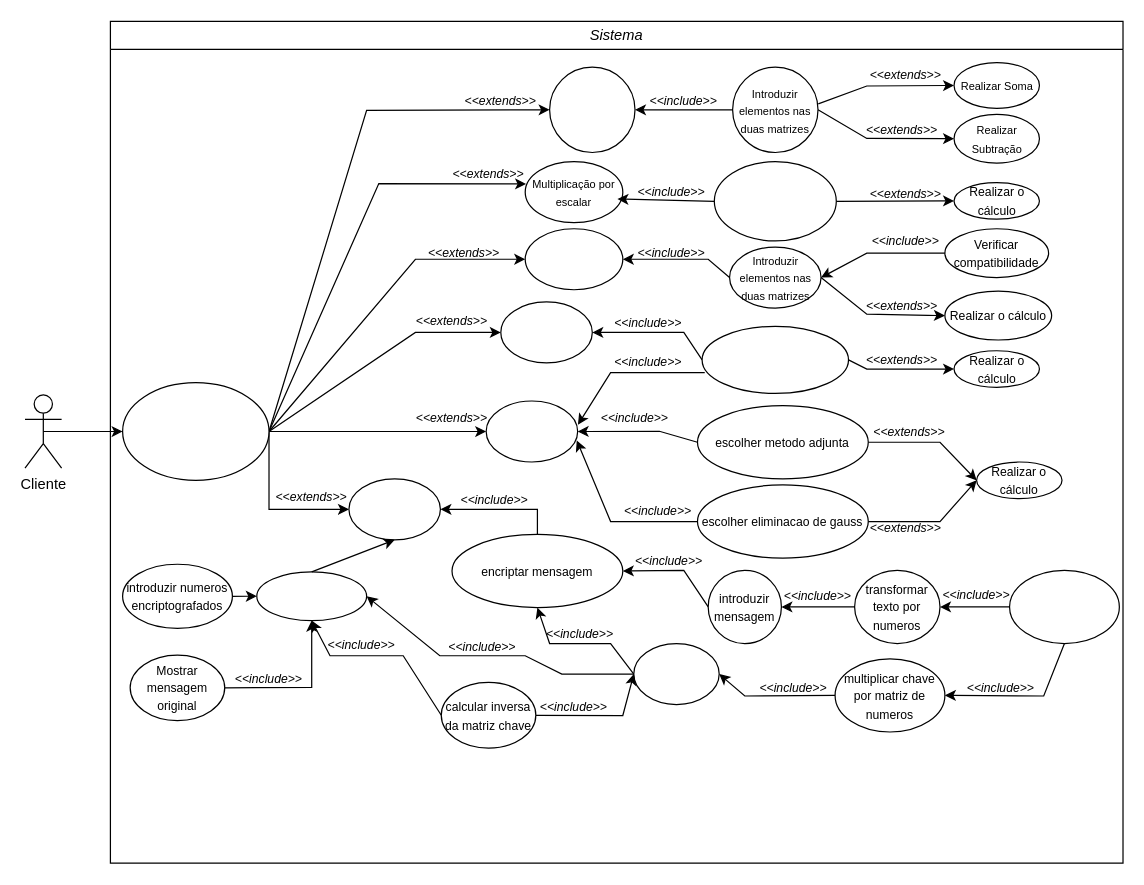
This 1144x885 diagram has some shape labels left out. The shapes that lost their labels are listed below. From the top down, each one's centre as x and y in pixels, then its label:
At [591,109]: "Soma/Subtracao".
At [774,200]: "Introduzir o escalar e elementos de uma matrizes".
At [573,259]: "Multiplicação matricial".
At [546,332]: "Determinante".
At [775,359]: "Introduzir elementos de uma matriz quadrada".
At [195,430]: "Aceder Calculadora".
At [531,431]: "Inversa".
At [394,509]: "Criptografia".
At [311,596]: "descriptografar mensagem".
At [1063,606]: "Mostrar matriz encriptografada".
At [676,673]: "introduzir matriz chave".
